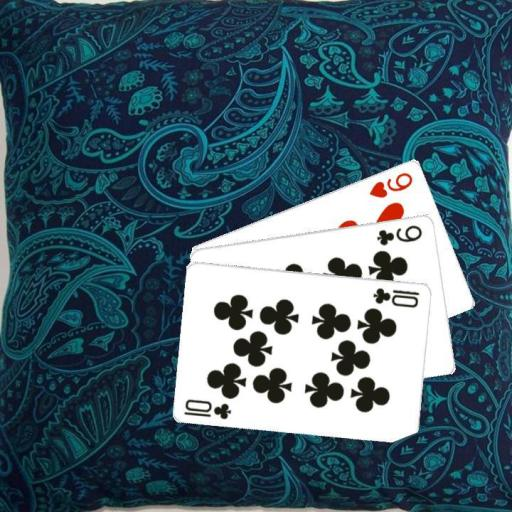10C: (182, 395, 234, 421), (370, 284, 421, 309)
9C: (373, 221, 424, 247)
9H: (366, 169, 415, 199)
